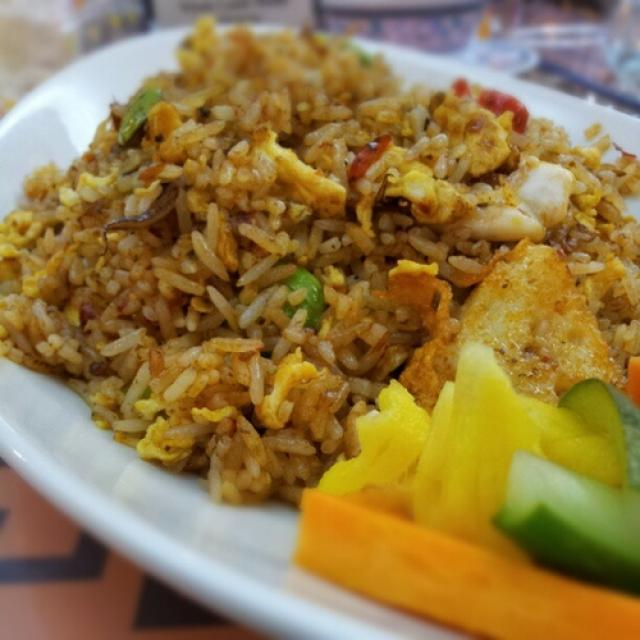米饭主食: (32, 58, 589, 532)
